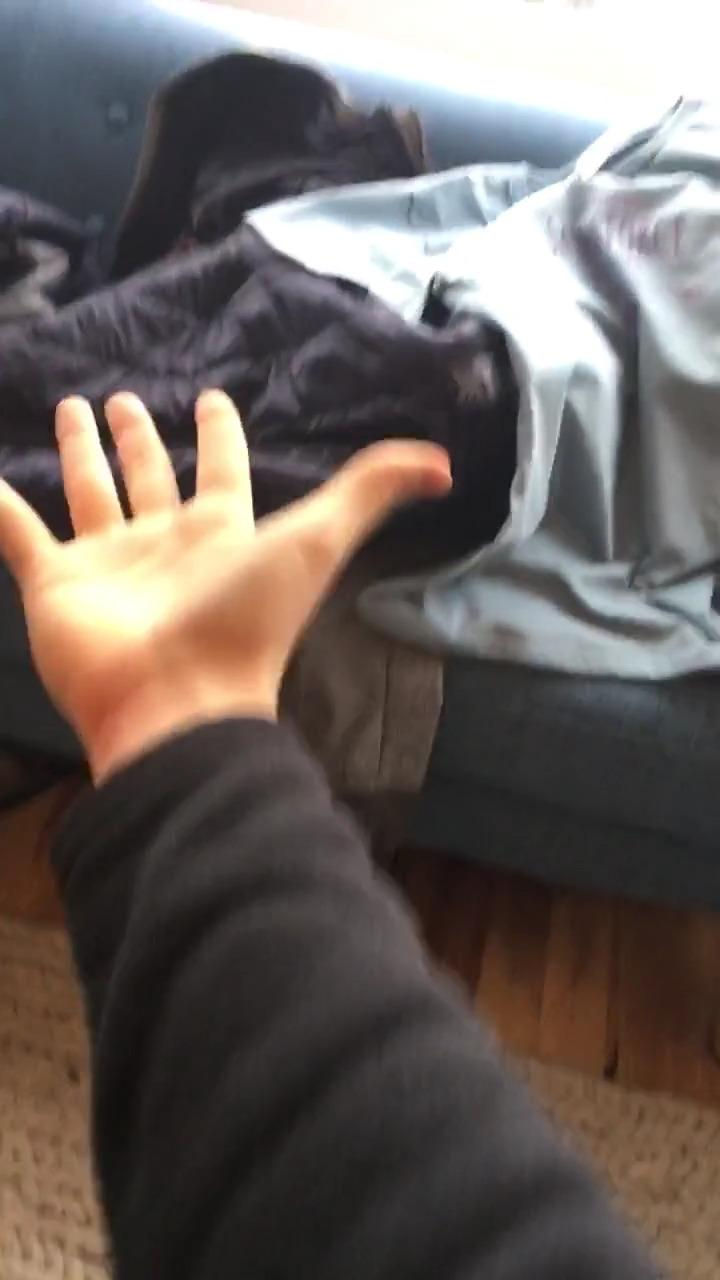Paper: (0, 384, 448, 700)
